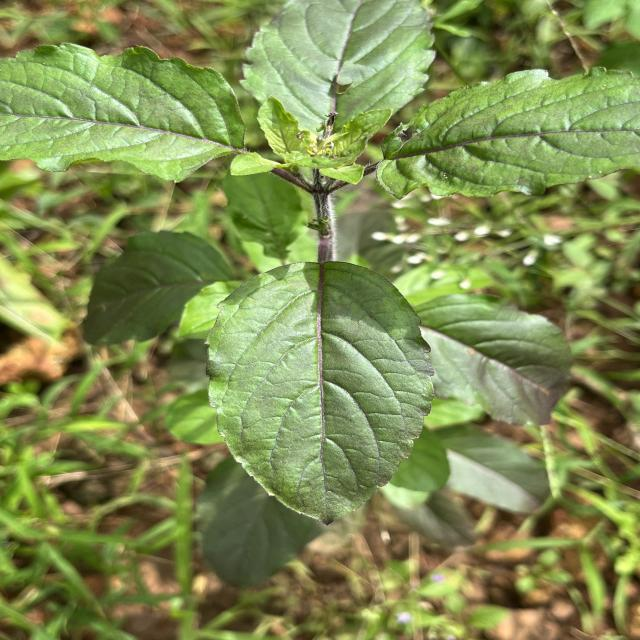Ocimum tenuiflorum: (202, 260, 438, 528)
